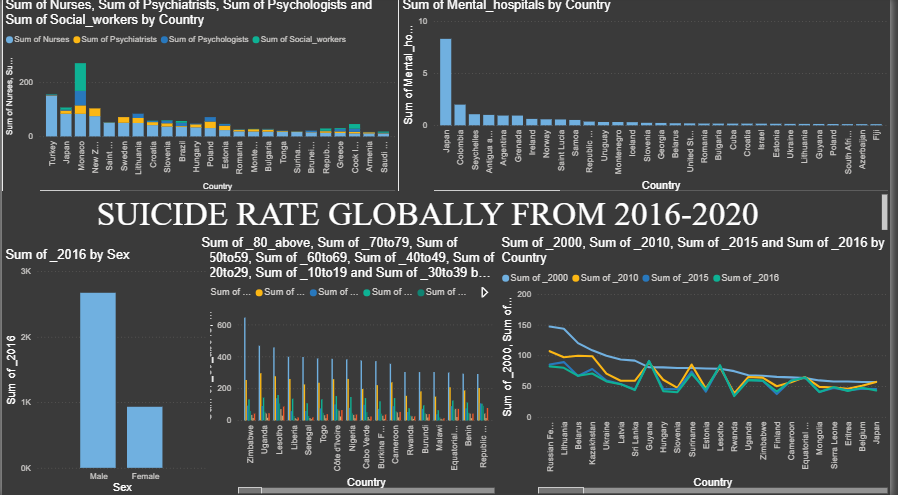

Layout of this report page (visuals, bound fields, positions):
{"tool":"powerbi","page":{"name":"Page 1","canvas":[1280,720],"ordinal":0},"visuals":[{"type":"lineChart","fields":{"Category":["Age-standardized suicide rates.Country"],"Y":["Sum(Age-standardized suicide rates._2000)","Sum(Age-standardized suicide rates._2010)","Sum(Age-standardized suicide rates._2015)","Sum(Age-standardized suicide rates._2016)"]},"box":[714.2,342.7,565.9,377.3],"z":0},{"type":"clusteredColumnChart","fields":{"Category":["Crude suicide rates.Country"],"Y":["Sum(Crude suicide rates._80_above)","Sum(Crude suicide rates._70to79)","Sum(Crude suicide rates._50to59)","Sum(Crude suicide rates._60to69)","Sum(Crude suicide rates._40to49)","Sum(Crude suicide rates._20to29)","Sum(Crude suicide rates._10to19)","Sum(Crude suicide rates._30to39)"]},"box":[282.2,342.7,432,377.3],"z":1000},{"type":"clusteredColumnChart","fields":{"Category":["Age-standardized suicide rates.Sex"],"Y":["Sum(Age-standardized suicide rates._2016)"]},"box":[0,360,299.5,360],"z":2000},{"type":"columnChart","fields":{"Category":["Human Resources.Country"],"Y":["Sum(Human Resources.Nurses)","Sum(Human Resources.Psychiatrists)","Sum(Human Resources.Psychologists)","Sum(Human Resources.Social_workers)"]},"box":[0,0,571.2,291.8],"z":3000},{"type":"clusteredColumnChart","fields":{"Y":["Sum(Facilities.Mental_hospitals)"],"Category":["Facilities.Country"]},"box":[571.2,0,708.8,291.8],"z":4000},{"type":"textbox","box":[0,279.4,1280.2,63.4],"z":6000}]}

Visuals, with their boxes in screenshot pixels (x1, y1, x2, y2), scaled from the page's 1280x720 canvas onto the 898x495 screenshot:
lineChart - Age-standardized suicide rates.Country x Sum(Age-standardized suicide rates._2000): l=501, t=236, r=897, b=494
clusteredColumnChart - Crude suicide rates.Country x Sum(Crude suicide rates._80_above): l=198, t=236, r=501, b=494
clusteredColumnChart - Age-standardized suicide rates.Sex x Sum(Age-standardized suicide rates._2016): l=0, t=248, r=210, b=494
columnChart - Human Resources.Country x Sum(Human Resources.Nurses): l=0, t=0, r=401, b=201
clusteredColumnChart - Sum(Facilities.Mental_hospitals) x Facilities.Country: l=401, t=0, r=897, b=201
textbox: l=0, t=192, r=897, b=236
